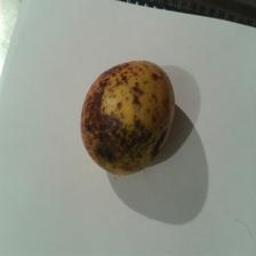Mango Rotten: (72, 48, 173, 177)
